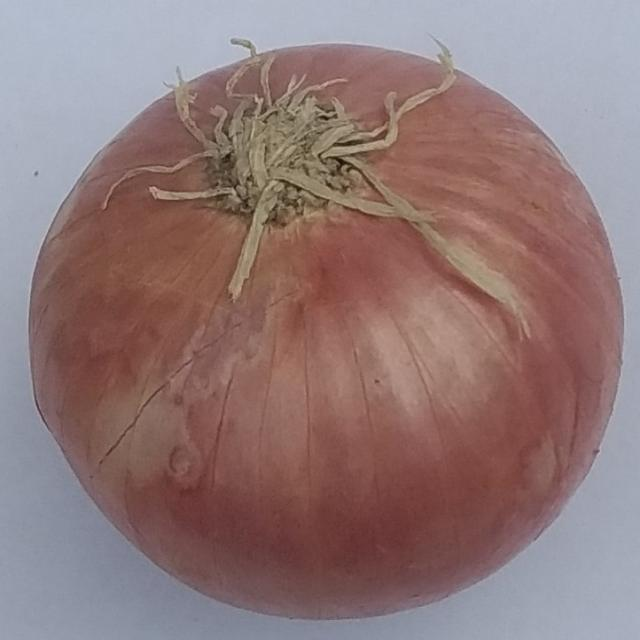onion: (25, 30, 628, 623)
